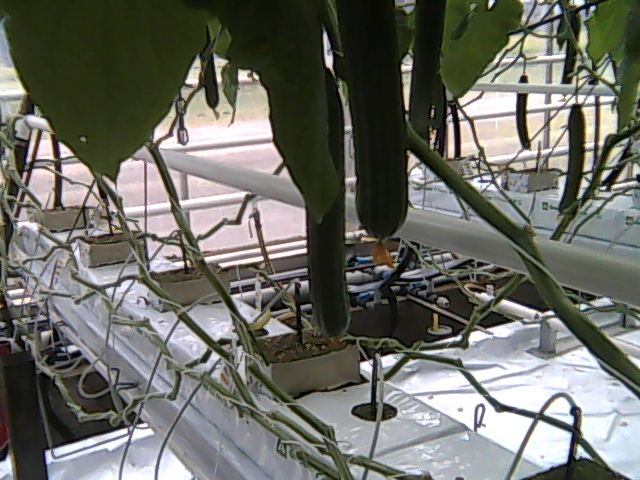concombre: (335, 1, 411, 271), (305, 63, 352, 343)
